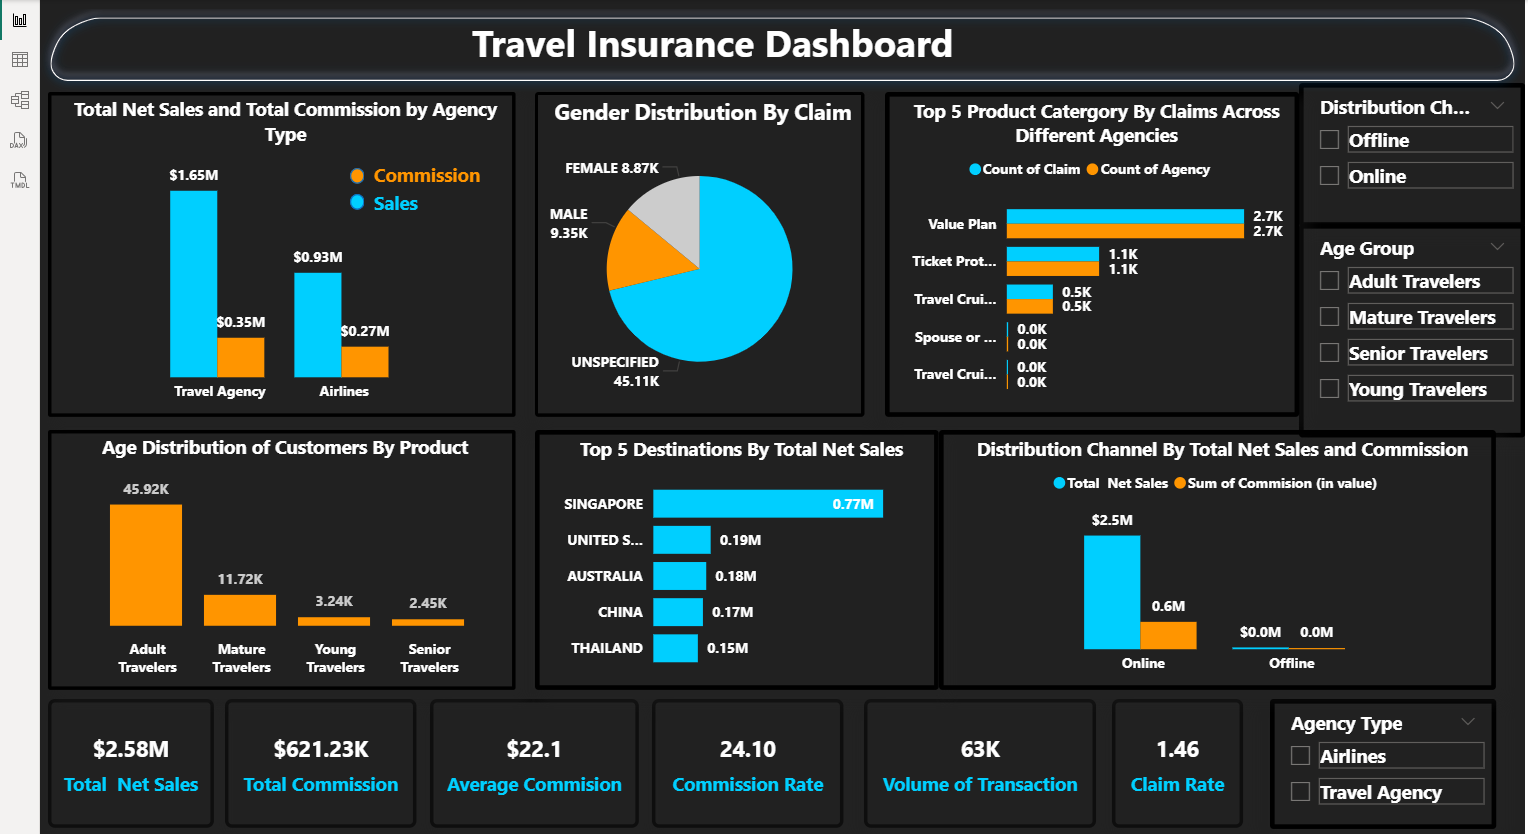

The page's visual inventory and layout, read from the dashboard file:
{"tool":"powerbi","page":{"name":"Page 1","canvas":[1280,720],"ordinal":0},"visuals":[{"type":"textbox","box":[346,9.7,468.5,53.5],"z":1000},{"type":"card","fields":{"Values":["travel data.Total  Net Sales"]},"box":[6.8,602.6,142.9,110.8],"z":2000},{"type":"card","fields":{"Values":["travel data.Total Commission"]},"box":[159.4,602.6,165.2,110.8],"z":3000},{"type":"card","fields":{"Values":["travel data.Average Commision Per Sale"]},"box":[336.3,602.6,179.8,110.8],"z":4000},{"type":"card","fields":{"Values":["travel data.Commission Rate"]},"box":[527.7,602.6,165.2,110.8],"z":5000},{"type":"card","fields":{"Values":["travel data.Volume of Transaction"]},"box":[710.5,602.6,200.2,110.8],"z":6000},{"type":"card","fields":{"Values":["travel data.Claim Rate"]},"box":[924.3,602.6,112.7,110.8],"z":7000},{"type":"shape","box":[267.4,144.7,12.5,13.5],"z":10000},{"type":"shape","box":[267.4,167.5,12.5,13.5],"z":11000},{"type":"textbox","box":[282.8,158.4,63.2,35],"z":12000},{"type":"textbox","box":[282.8,134.1,112.7,36],"z":13000},{"type":"slicer","fields":{"Values":["travel data.Agency Type"]},"box":[1060.2,602.8,194.7,112],"z":18000},{"type":"slicer","fields":{"Values":["travel data.Distribution Channel"]},"box":[1084.9,71.8,195.1,124.2],"z":19000},{"type":"slicer","fields":{"Values":["Age bucket.Age Group"]},"box":[1084.9,193.2,195.1,184],"z":20000},{"type":"shape","box":[0,6.4,1280,72.7],"z":20500},{"type":"clusteredColumnChart","fields":{"Y":["travel data.Total  Net Sales","travel data.Total Commission"],"Category":["travel data.Agency Type"]},"box":[6.8,79.7,403.3,279.9],"z":21000},{"type":"pieChart","title":"Gender Distribution By Claim","fields":{"Category":["travel data.Gender"],"Y":["CountNonNull(travel data.Claim)"]},"box":[426.7,79.7,283.8,279.9],"z":21500},{"type":"clusteredBarChart","title":"Top 5 Product Catergory By Claims Across Different Agencies","fields":{"Y":["CountNonNull(travel data.Claim)","CountNonNull(travel data.Agency)"],"Category":["travel data.Product Name"]},"box":[728,79.7,356.7,279.9],"z":22000},{"type":"clusteredColumnChart","title":"Age Distribution of Customers By Product","fields":{"Category":["Age bucket.Age Group"],"Y":["CountNonNull(travel data.Product Name)"]},"box":[7.3,370.5,402.7,223.7],"z":22500},{"type":"clusteredBarChart","title":"Top 5 Destinations By Total Net Sales","fields":{"Category":["travel data.Destination"],"Y":["Sum(travel data.Net Sales)"]},"box":[426.7,370.3,347.9,223.5],"z":23000},{"type":"clusteredColumnChart","title":"Distribution Channel By Total Net Sales and Commission","fields":{"Category":["travel data.Distribution Channel"],"Y":["travel data.Total  Net Sales","Sum(travel data.Commision (in value))"]},"box":[774.5,370.5,480.4,224],"z":23500}]}

Visuals, with their boxes on the page's 1280x720 design canvas (x1, y1, x2, y2). These are canvas units, not pixel positions in the 1528x834 screenshot, which may show the page scaled, cropped or inside an application window:
textbox: x1=346 y1=10 x2=814 y2=63
card - travel data.Total  Net Sales: x1=7 y1=603 x2=150 y2=713
card - travel data.Total Commission: x1=159 y1=603 x2=325 y2=713
card - travel data.Average Commision Per Sale: x1=336 y1=603 x2=516 y2=713
card - travel data.Commission Rate: x1=528 y1=603 x2=693 y2=713
card - travel data.Volume of Transaction: x1=710 y1=603 x2=911 y2=713
card - travel data.Claim Rate: x1=924 y1=603 x2=1037 y2=713
shape: x1=267 y1=145 x2=280 y2=158
shape: x1=267 y1=168 x2=280 y2=181
textbox: x1=283 y1=158 x2=346 y2=193
textbox: x1=283 y1=134 x2=396 y2=170
slicer - travel data.Agency Type: x1=1060 y1=603 x2=1255 y2=715
slicer - travel data.Distribution Channel: x1=1085 y1=72 x2=1280 y2=196
slicer - Age bucket.Age Group: x1=1085 y1=193 x2=1280 y2=377
shape: x1=0 y1=6 x2=1280 y2=79
clusteredColumnChart - travel data.Total  Net Sales x travel data.Total Commission: x1=7 y1=80 x2=410 y2=360
"Gender Distribution By Claim" pieChart: x1=427 y1=80 x2=710 y2=360
"Top 5 Product Catergory By Claims Across Different Agencies" clusteredBarChart: x1=728 y1=80 x2=1085 y2=360
"Age Distribution of Customers By Product" clusteredColumnChart: x1=7 y1=370 x2=410 y2=594
"Top 5 Destinations By Total Net Sales" clusteredBarChart: x1=427 y1=370 x2=775 y2=594
"Distribution Channel By Total Net Sales and Commission" clusteredColumnChart: x1=774 y1=370 x2=1255 y2=594
